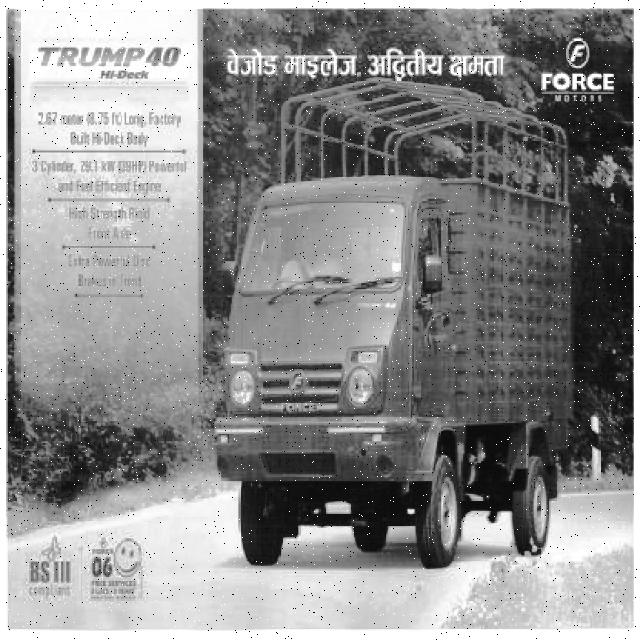LCV: (222, 94, 566, 545)
